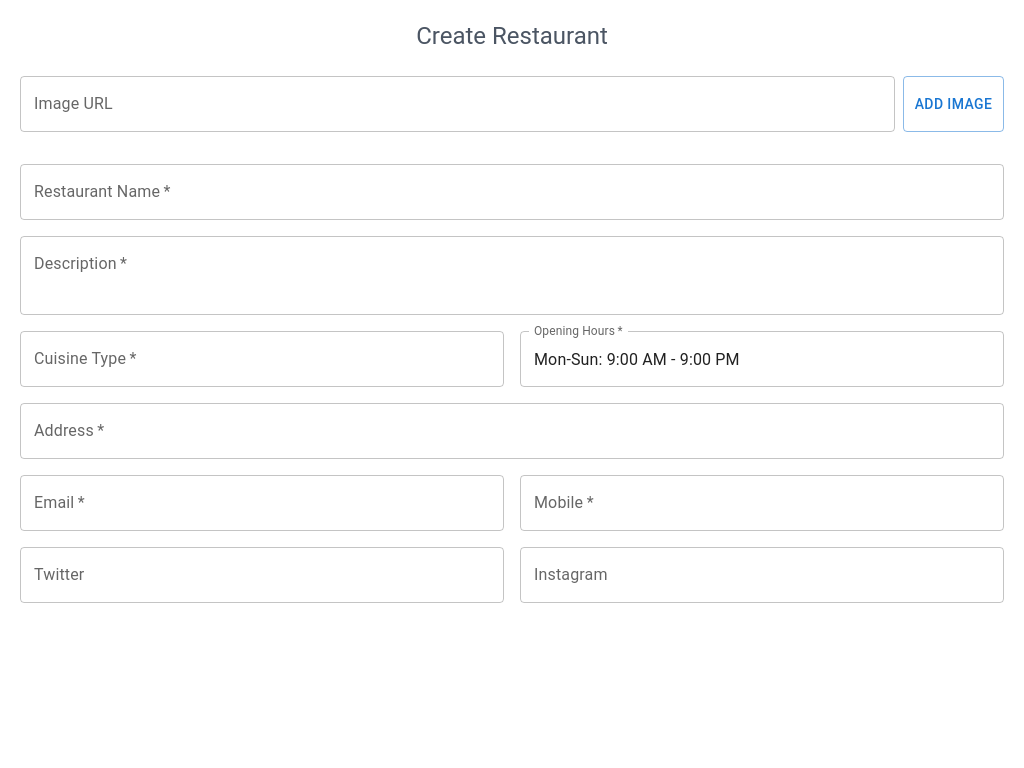
Scenario: RestaurantForm › allows adding image URLs
// Type in an image URL
Step 1. Type "new-image.jpg" into the field with test id "image-url-input" → (458, 104), box x1=20 y1=76 x2=895 y2=132
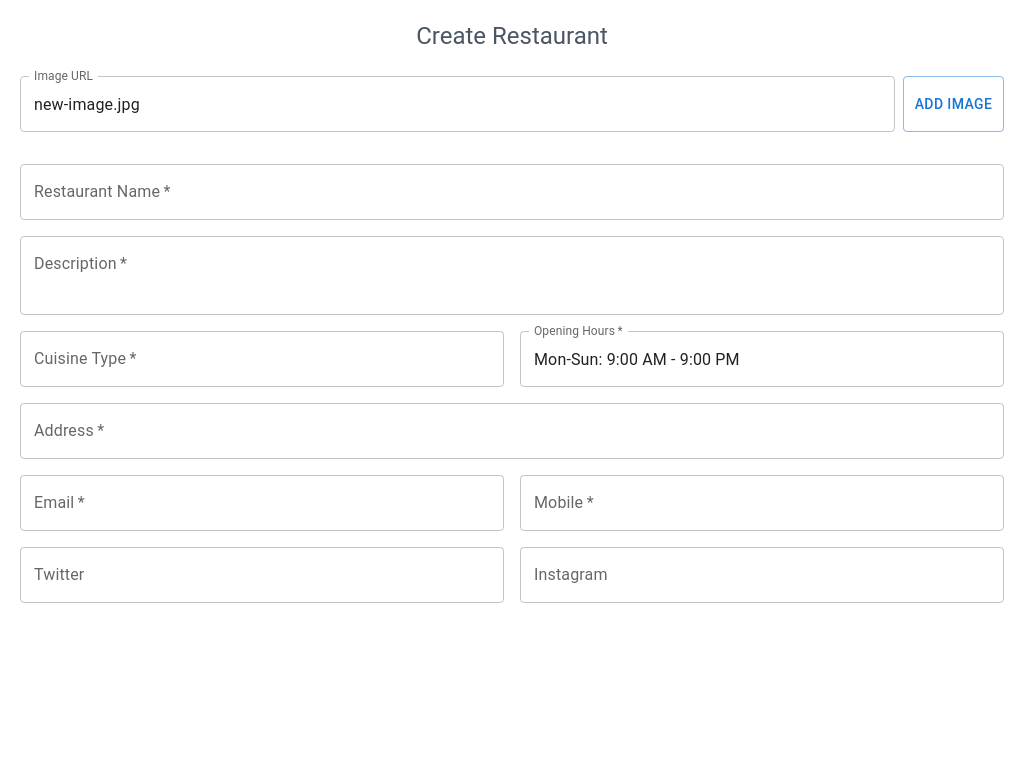
// Click add image button
Step 2. Click the button with test id "add-image-button" → click(954, 104), box x1=903 y1=76 x2=1004 y2=132
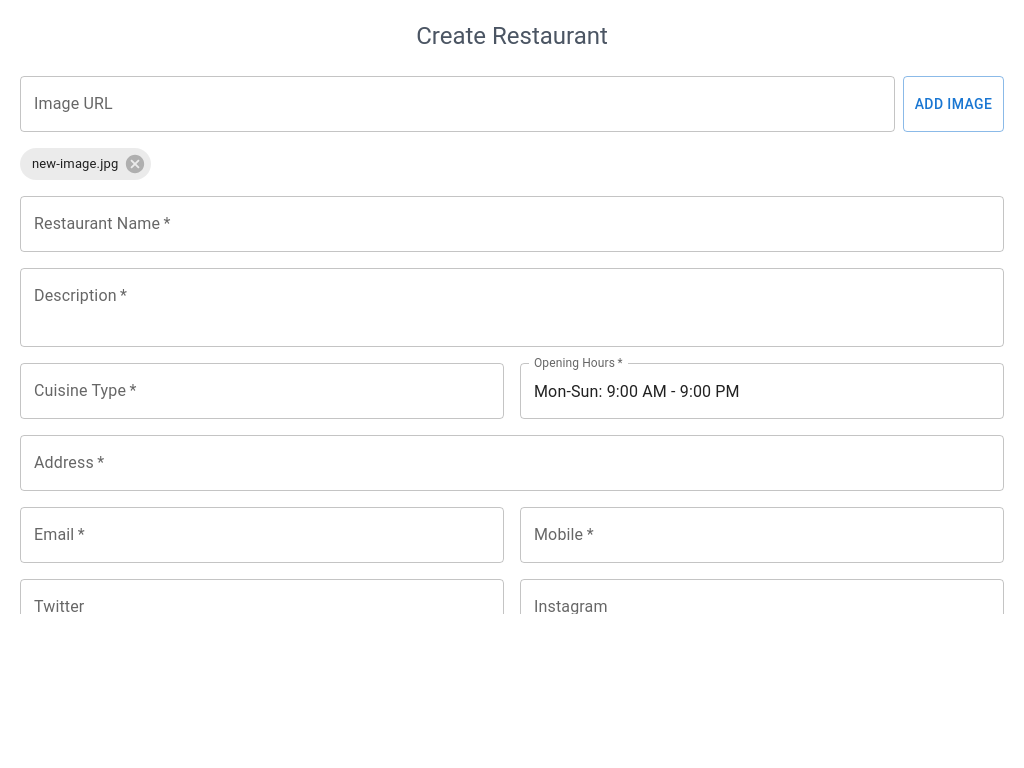
Now the text "new-image.jpg" is shown, box x1=32 y1=156 x2=118 y2=171
